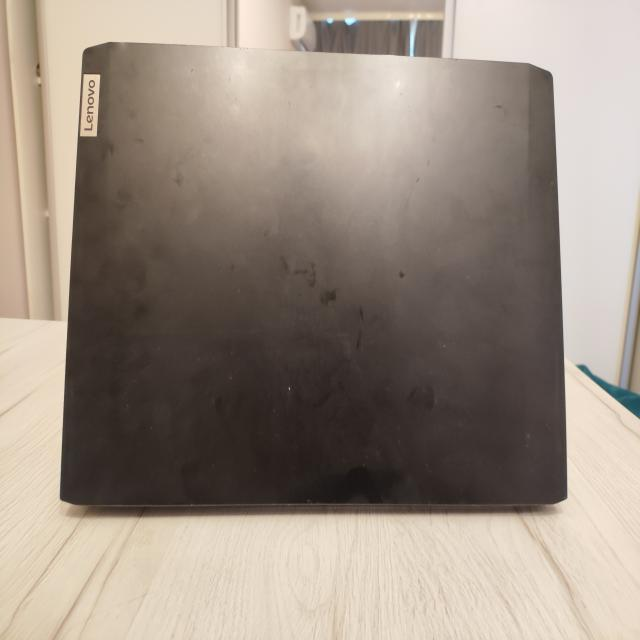other: (289, 359, 362, 420), (327, 454, 406, 498), (185, 383, 245, 418), (130, 257, 158, 327), (405, 376, 448, 413), (275, 253, 319, 287), (348, 301, 372, 354), (105, 185, 143, 218), (92, 129, 119, 170), (482, 96, 507, 135), (168, 166, 194, 194), (320, 281, 342, 312), (221, 249, 240, 283), (396, 260, 408, 289)
